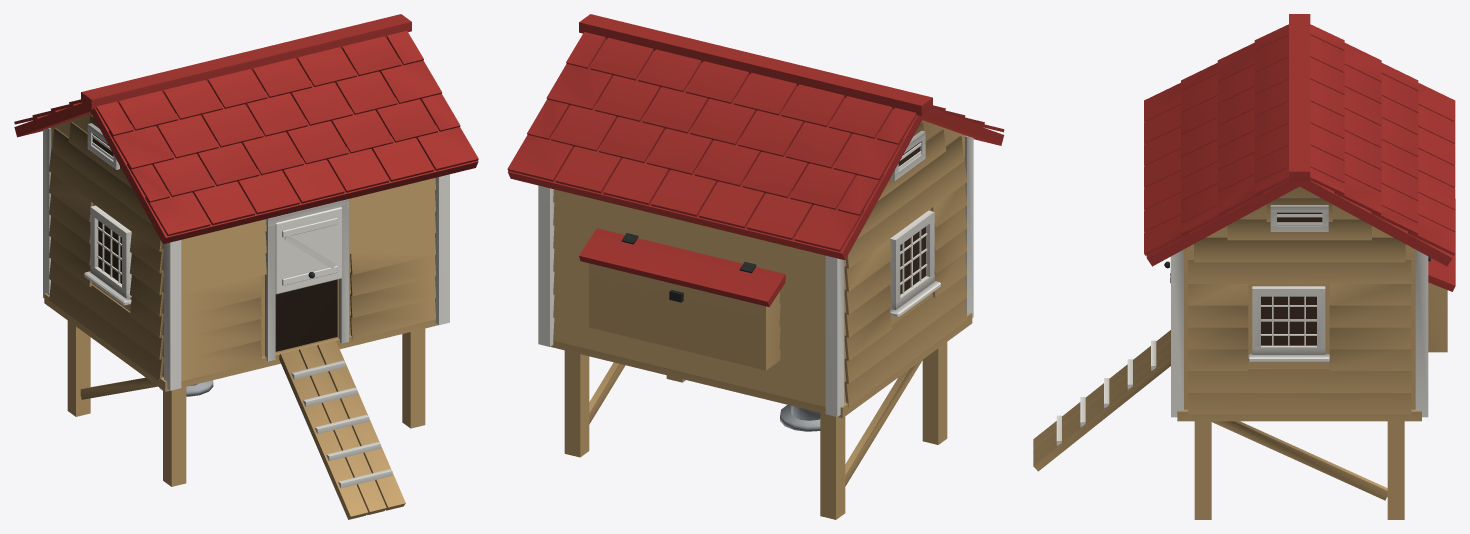
The model's file is coop.glb.
3 views of the same model, side by side, from view 1: azimuth 30°, elevation 25°; view 2: azimuth 150°, elevation 25°; view 3: azimuth 270°, elevation 25° (orthographic). The views are drawn at different scales.
Visible parts, largest first — view 1: coop, hatch; view 2: coop; view 3: coop.
Part boxes in pixels (box(x1,y1,x2,y2)): coop: box(14, 14, 478, 519); hatch: box(275, 207, 341, 294); coop: box(507, 14, 1004, 519); coop: box(1033, 14, 1455, 519).
Size of the model in its own units: 1.74 by 1.88 by 1.97.
